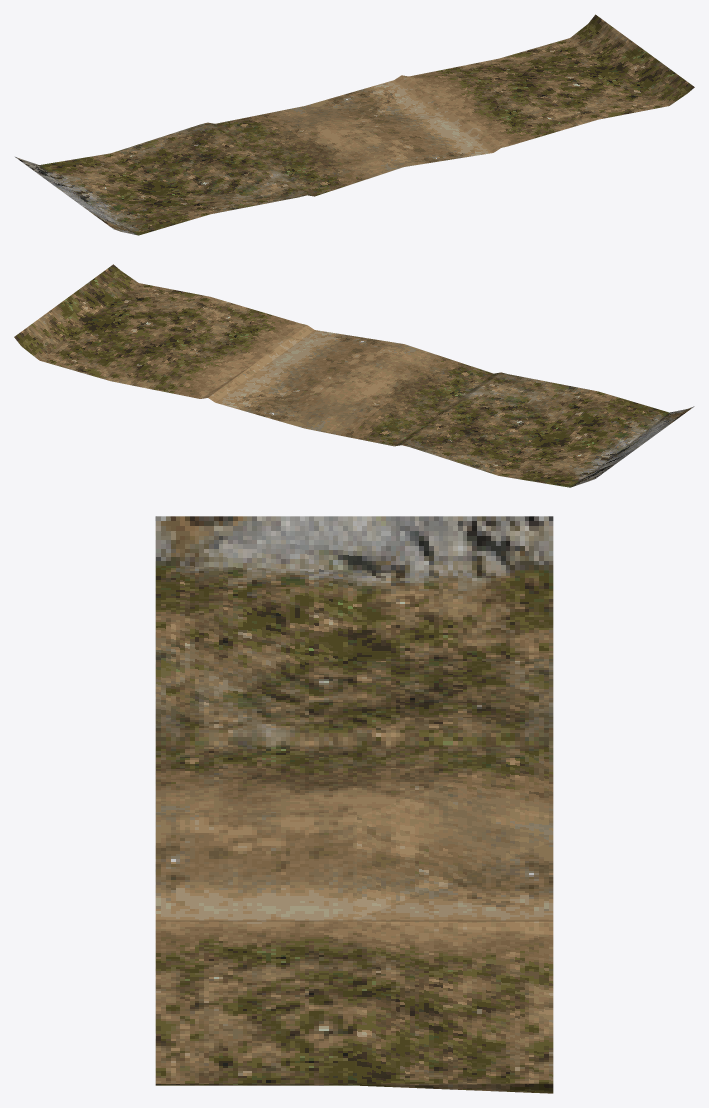
File: 4_road_01_end_downhill.glb
3 renders of one model, top to bottom at view 1: azimuth 30°, elevation 25°; view 2: azimuth 150°, elevation 25°; view 3: azimuth 270°, elevation 25°, orthographic. The views are drawn at different scales.
Parts seen in each view (by area): view 1: 4_road_01_end_downhill; view 2: 4_road_01_end_downhill; view 3: 4_road_01_end_downhill.
Part boxes in pixels (box(x1,y1,x2,y2)): 4_road_01_end_downhill: box(15, 14, 694, 235); 4_road_01_end_downhill: box(14, 264, 694, 487); 4_road_01_end_downhill: box(155, 516, 553, 1093).
Bounding box in the file's own units: 27.01 × 0.9147 × 8.
Materials: 1 (1 with a texture image).
